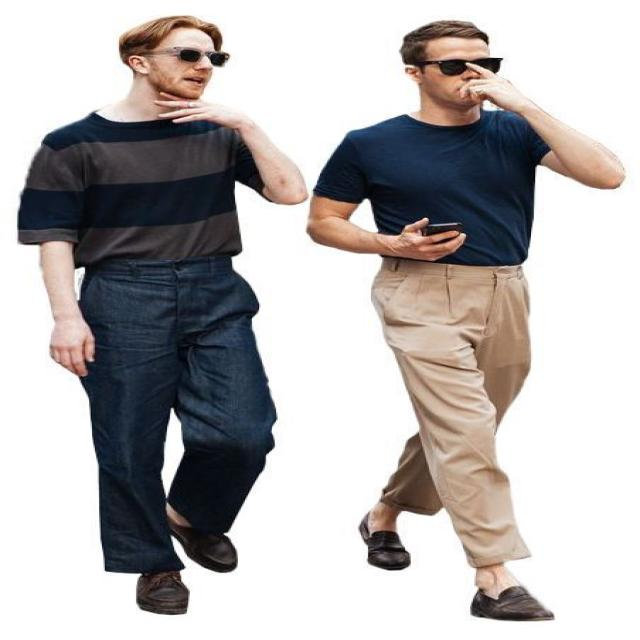person: (304, 19, 626, 621), (15, 14, 308, 615)
